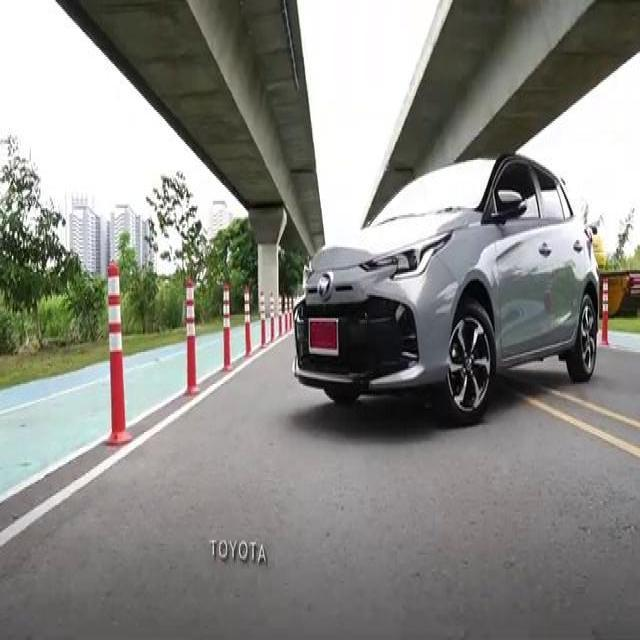Hatchback: (292, 153, 599, 423)
